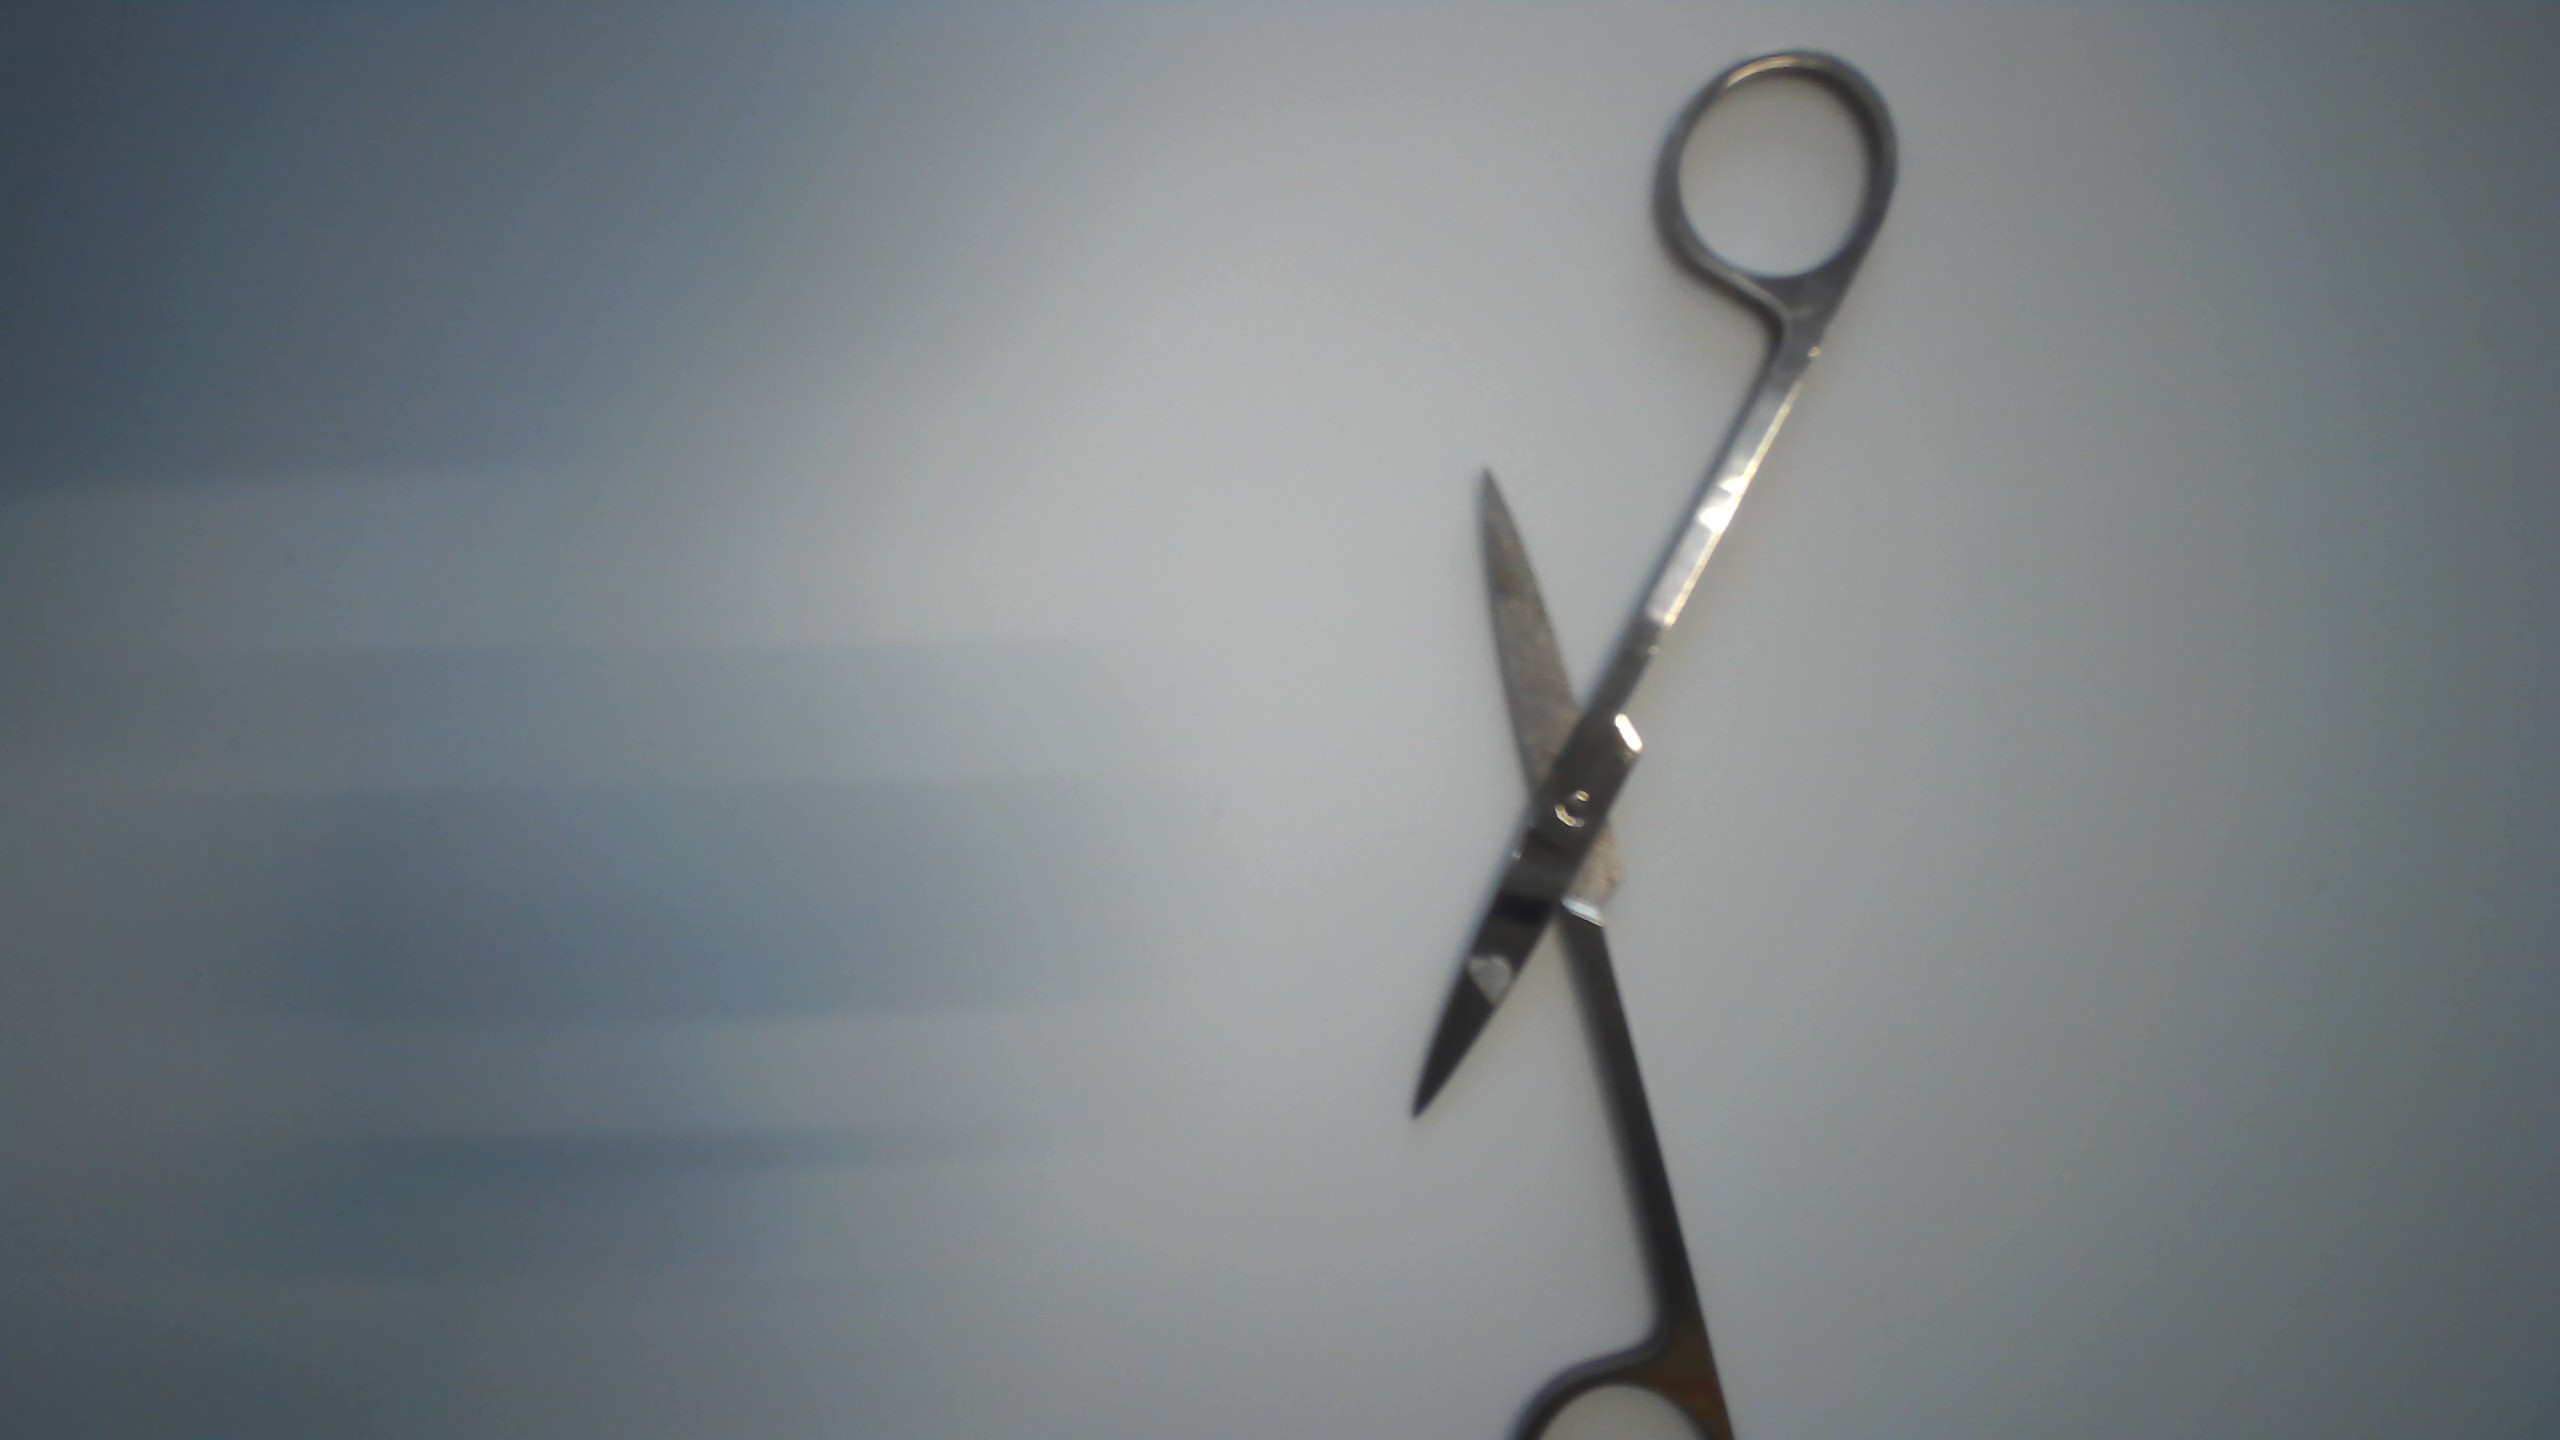Tissues: (1452, 941, 1523, 1006)
